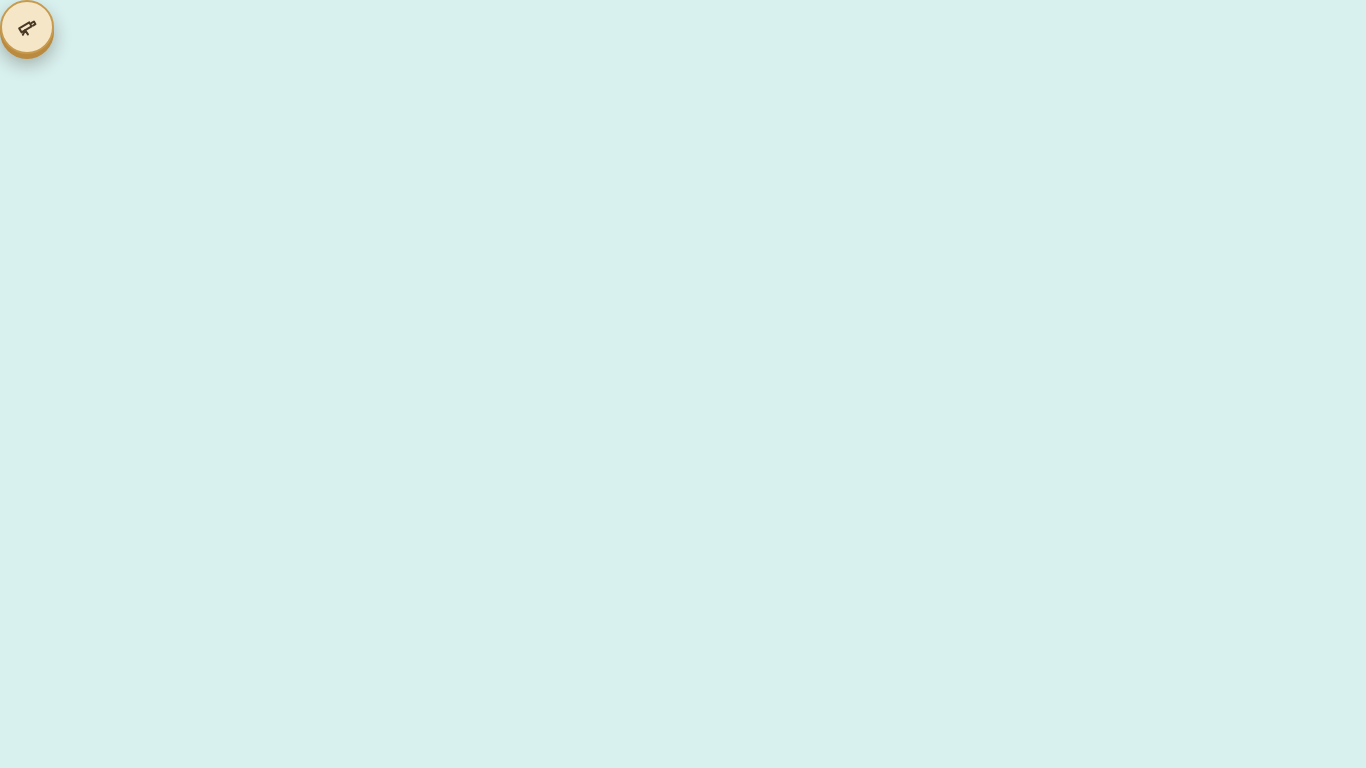
Test: ScoutControl › scout_sheet_names_missing_scanner_with_install_hint
Click the button named "Scout for threats" at (27, 27), box [0,0,54,54]
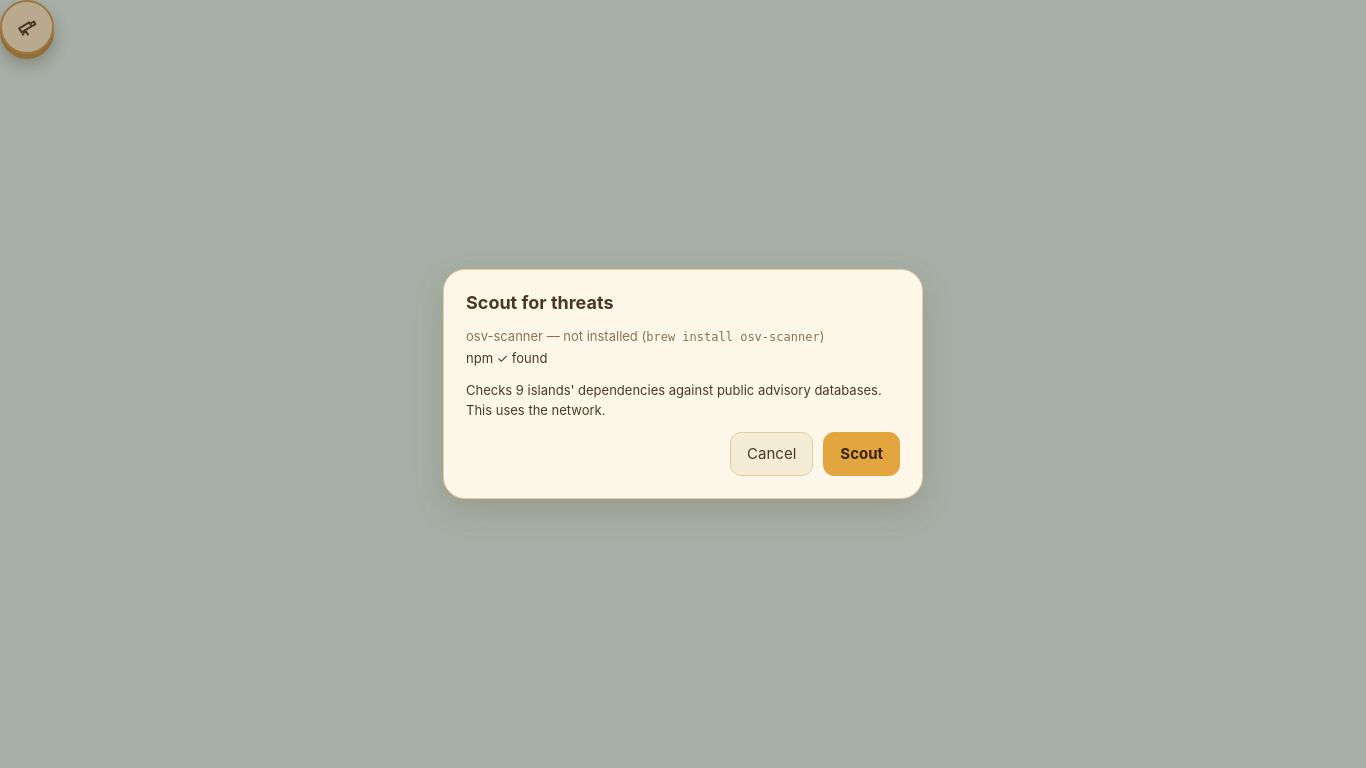
Check: the dialog "Scout for threats" shows "osv-scanner — not installed (brew install osv-scanner)"
Check: the dialog "Scout for threats" shows "npm ✓ found", box [466,350,547,366]
Check: the dialog "Scout for threats" shows "Checks 9 islands' dependencies against public advisory databases. This uses the network."
